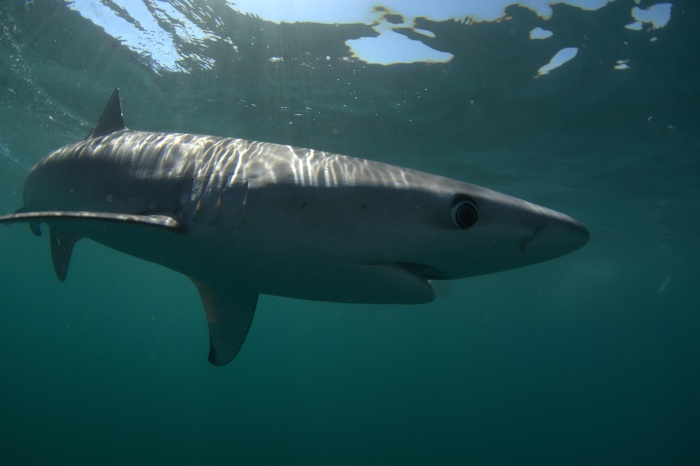Azul: (1, 77, 643, 366)
